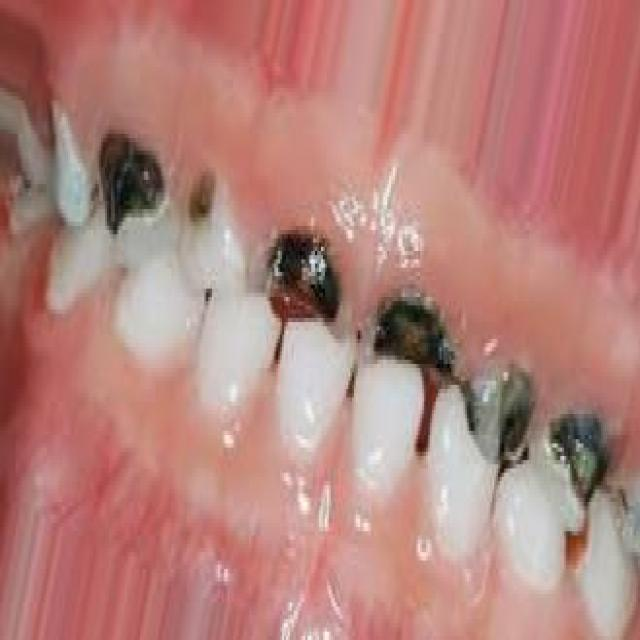caries: (255, 210, 350, 352), (357, 262, 458, 395), (91, 113, 169, 259), (541, 381, 618, 518), (464, 339, 536, 474), (178, 137, 228, 246)
